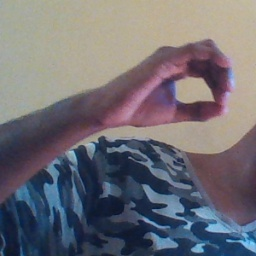O: (114, 32, 238, 129)
